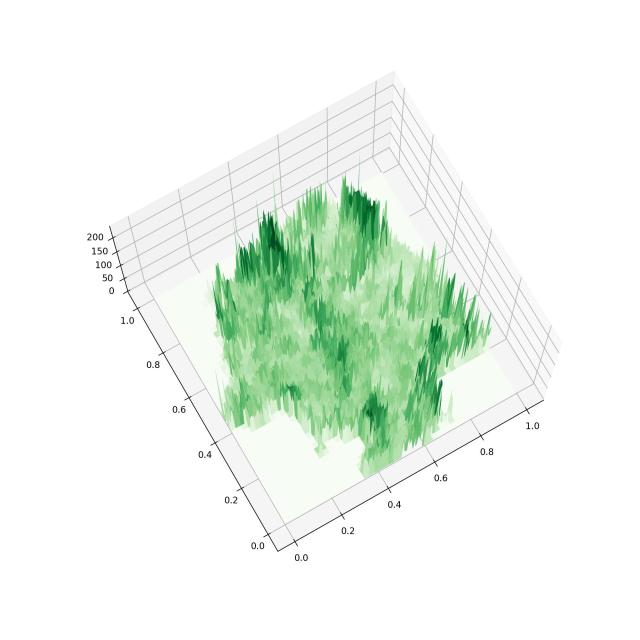fir: (68, 47, 586, 580)
